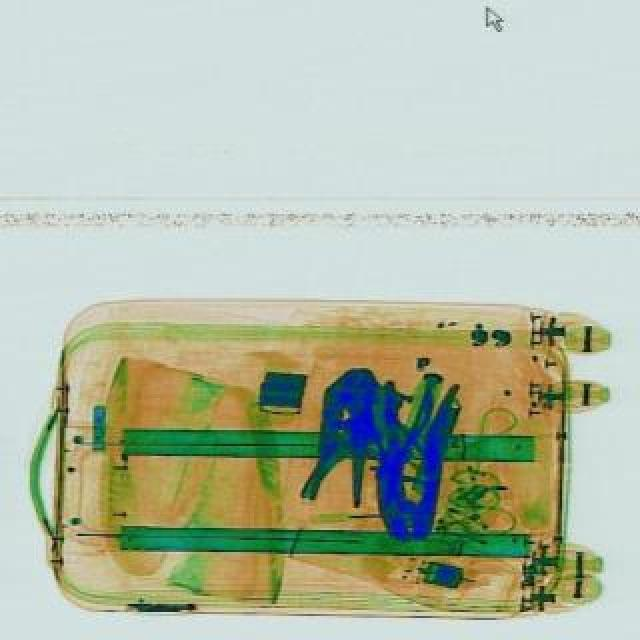wrench: (366, 380, 458, 544), (364, 380, 434, 488)
